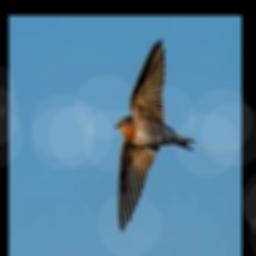Swallow: (113, 37, 194, 232)
